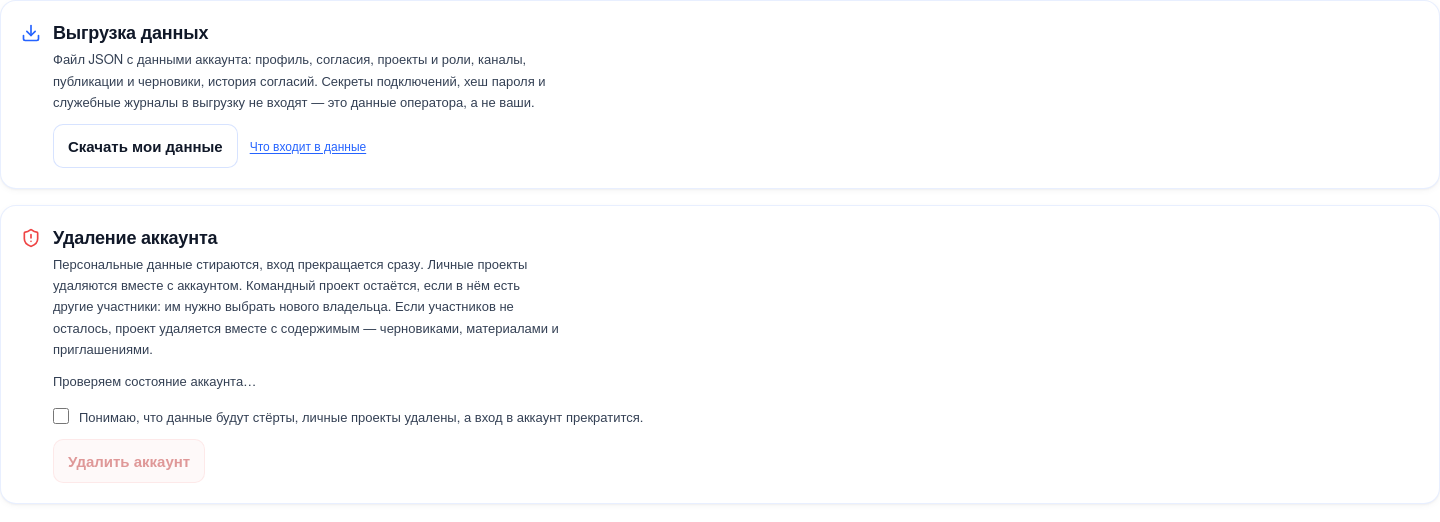
Scenario: personal data settings section › keeps the delete button disabled until the consequences are accepted
Expected: the button "Удалить аккаунт" is disabled, [53,439,205,483]
What coordinates should you click on to do the following:
click the checkbox
I would click on:
 (61, 416)
Its box is [53,408,69,424].
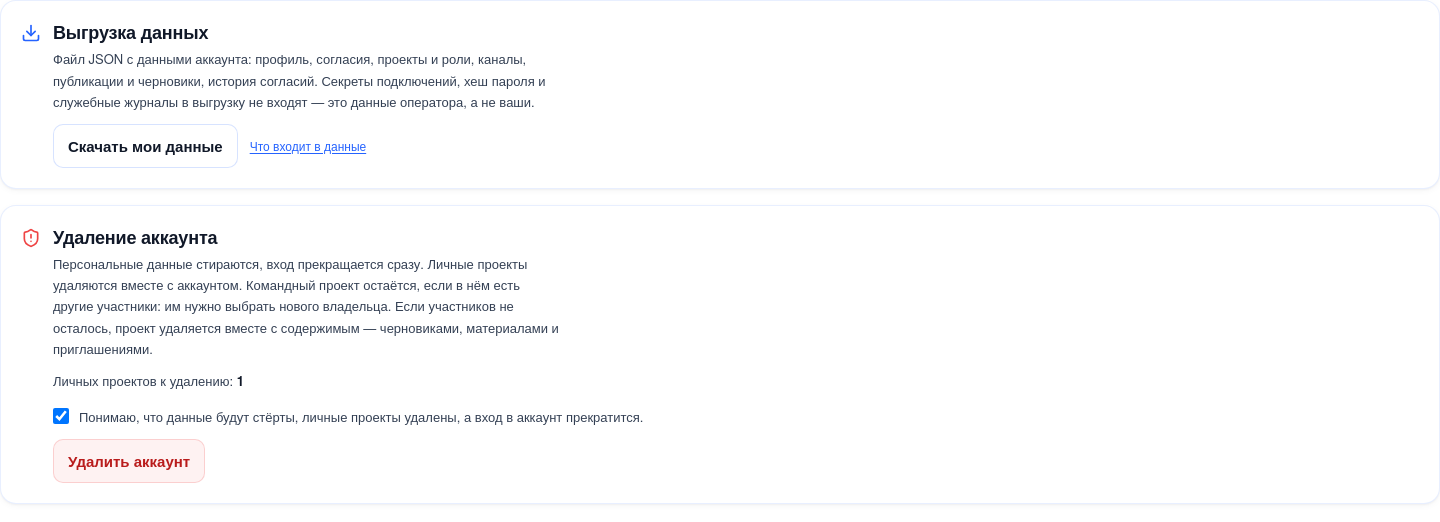
Expected: the button "Удалить аккаунт" is enabled, [53,439,205,483]
